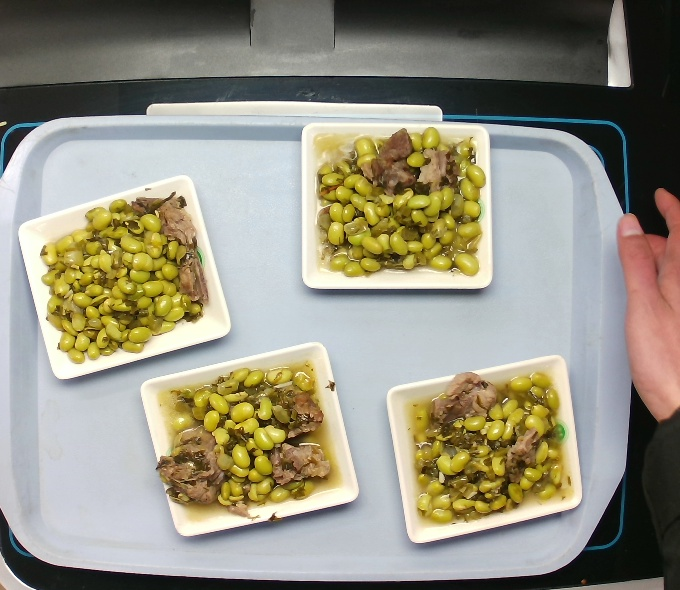wcq-ZhuRouDunDou: (166, 373, 340, 516), (402, 378, 576, 521), (310, 131, 484, 274), (35, 204, 209, 347)
